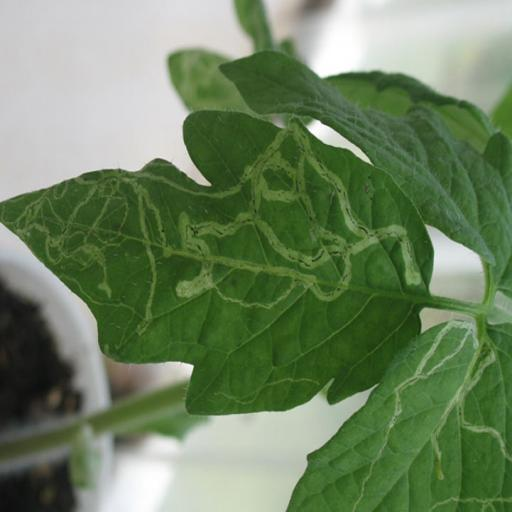Healthy: (218, 44, 512, 288)
Leaf_Miner: (0, 110, 436, 418), (282, 312, 512, 511)
